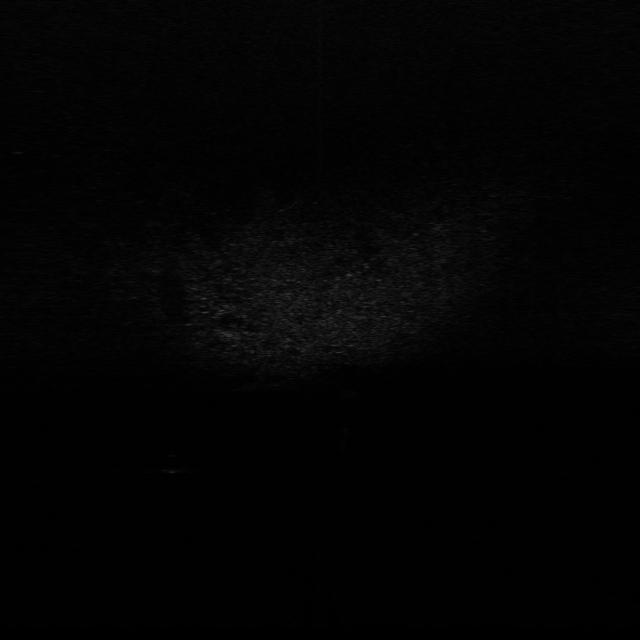ball: (157, 452, 194, 476)
cube: (338, 382, 366, 406)
